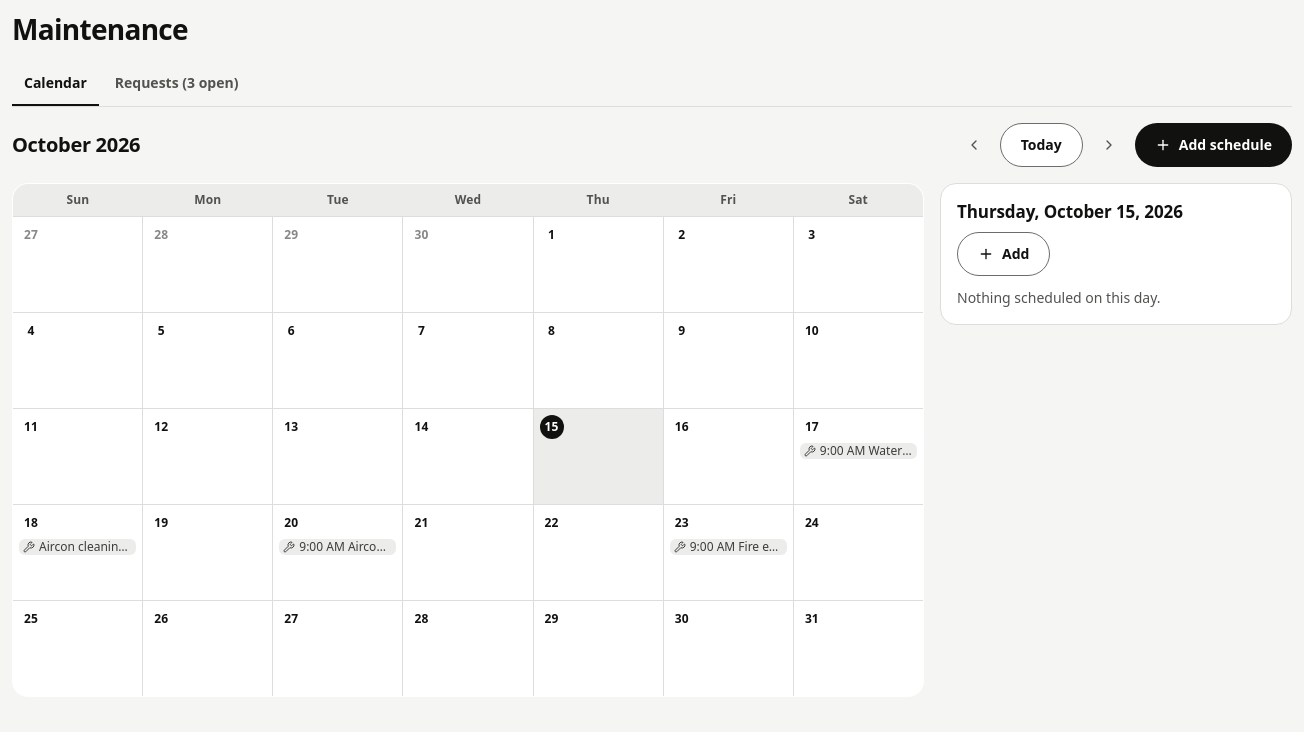
Test: AdminMaintenancePage — Calendar tab and "Schedule fix" › opens on the Calendar with maintenance items only (no legend, no renter items) and a Requests tab with the open count
Expected: the table shows "Water interruption: tank repair", [794,409,923,504]
Expected: the table shows "Aircon repair: Ana Cruz", [273,505,402,600]
Click the tab "Requests (3 open)" at point(177, 84), box [103,62,250,106]
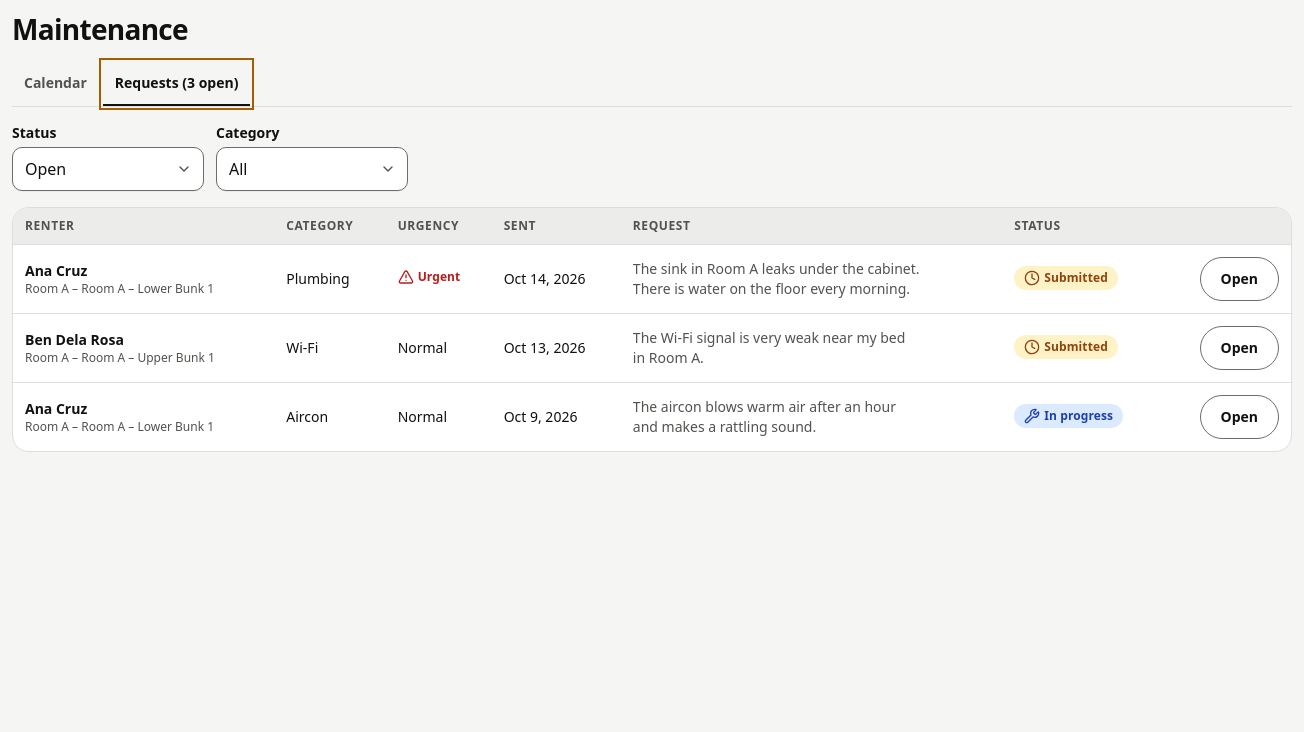
Expected: the table named "Maintenance" is shown, [13,208,1291,451]
